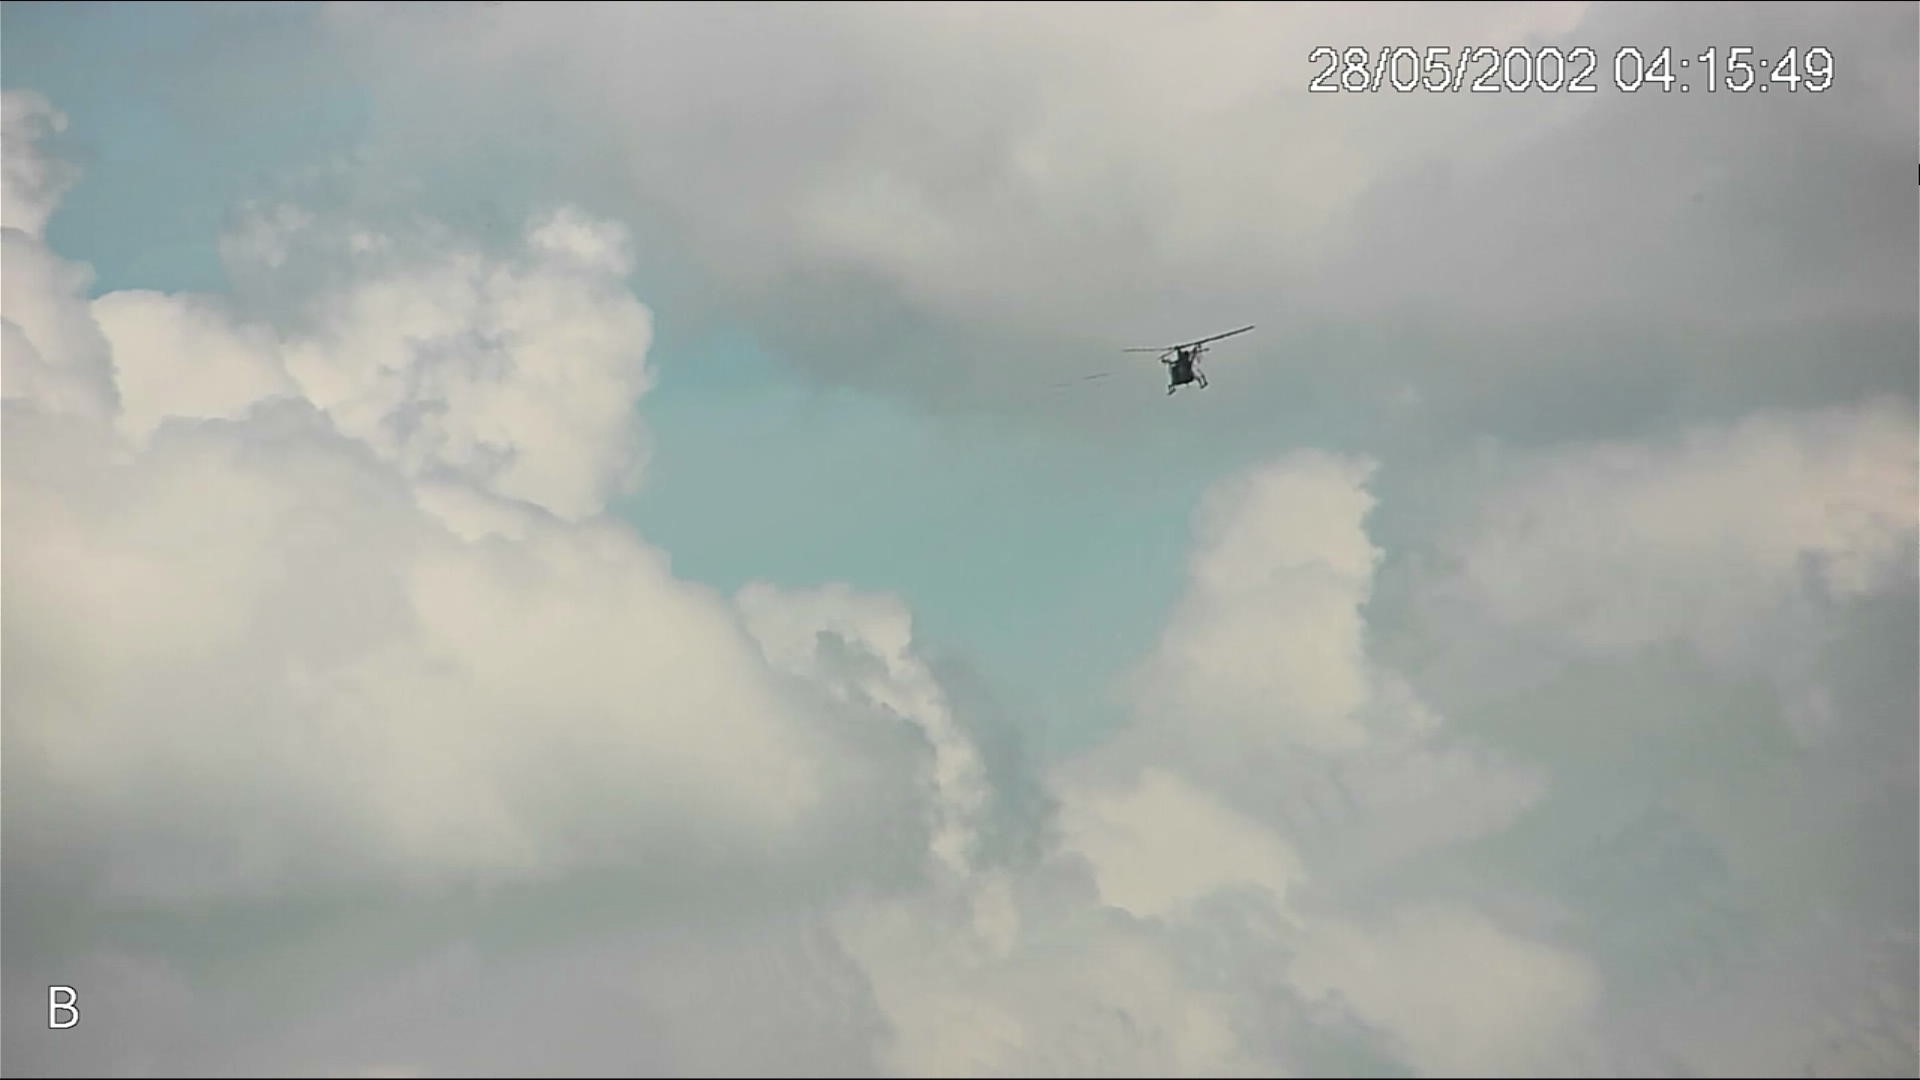SU_30: (1155, 334, 1213, 396)
